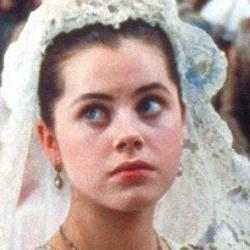face: (15, 8, 198, 217)
